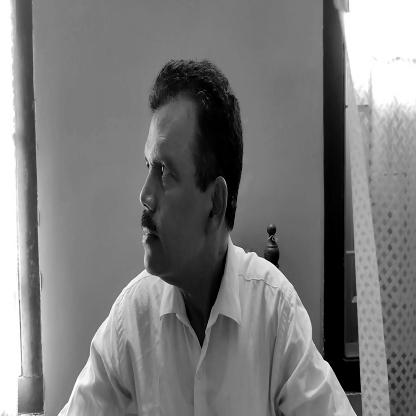Distracted: (136, 68, 238, 276)
